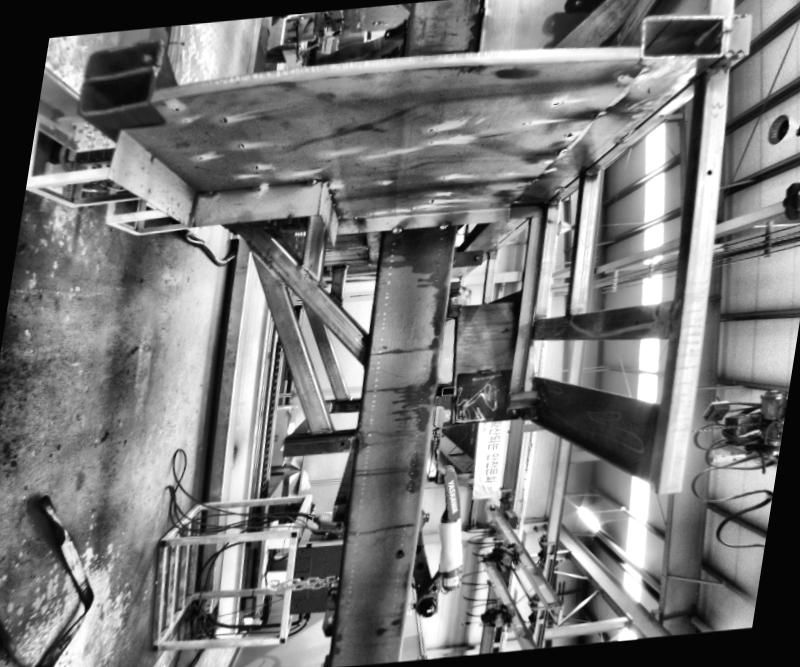hole: (704, 170, 712, 178), (395, 548, 402, 555), (632, 320, 638, 326), (337, 442, 342, 445)
welding: (240, 180, 268, 196), (196, 185, 217, 199), (433, 220, 452, 231), (388, 224, 401, 237), (297, 178, 316, 186)
